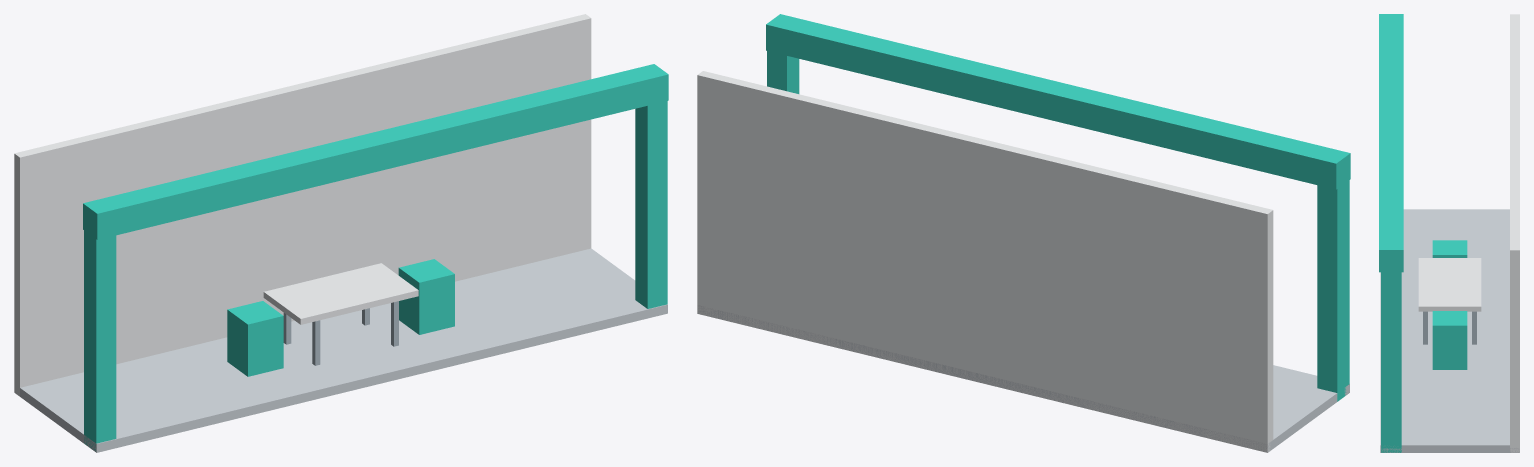
3 renders of one model, left to right at view 1: azimuth 30°, elevation 25°; view 2: azimuth 150°, elevation 25°; view 3: azimuth 270°, elevation 25°, orthographic. The views are drawn at different scales.
Visible parts, largest first — view 1: Exhibition Booth Concept; view 2: Exhibition Booth Concept; view 3: Exhibition Booth Concept.
Part boxes in pixels (x1,y1,x2,y2): Exhibition Booth Concept: (14,14,668,452); Exhibition Booth Concept: (697,14,1350,452); Exhibition Booth Concept: (1379,14,1519,452).
Bounding box in the file's own units: 8 × 3.2 × 2.01.
